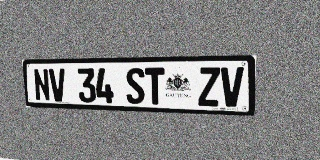3: (77, 68, 96, 103)
4: (95, 68, 114, 103)
N: (33, 69, 51, 101)
S: (125, 68, 145, 104)
T: (145, 68, 165, 105)
V: (220, 67, 244, 107), (49, 68, 67, 102)
Z: (198, 67, 220, 106)
